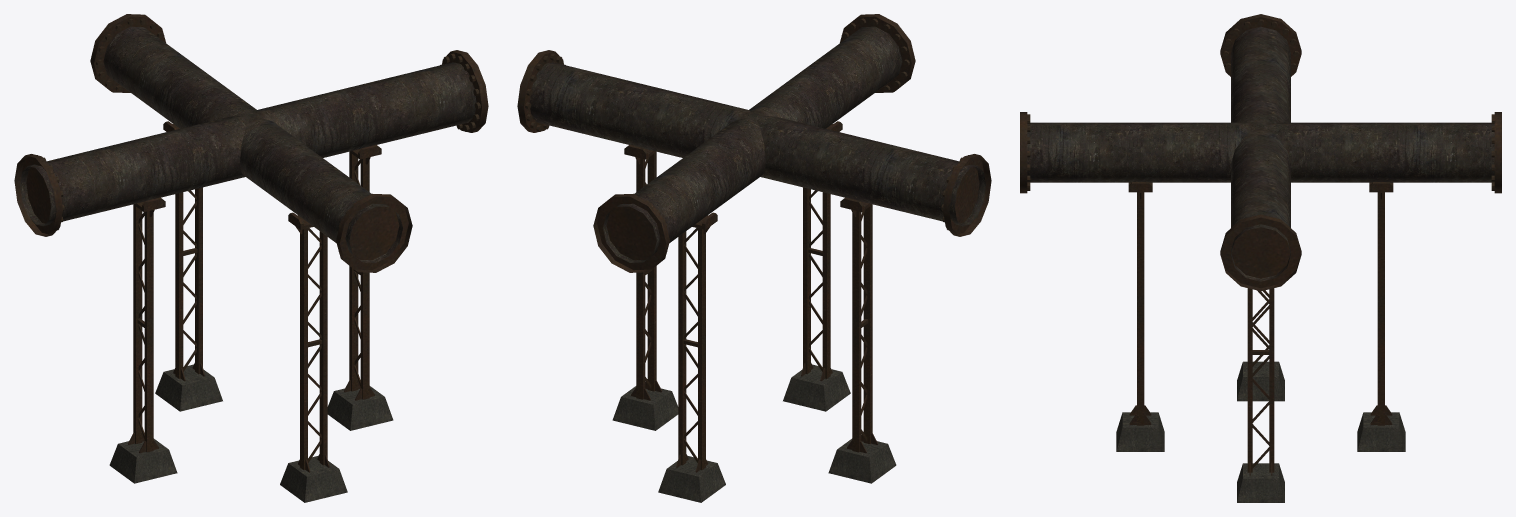
The model's file is pipe_cx_2.obj.
The picture shows the model from 3 angles, left to right: view 1: azimuth 30°, elevation 25°; view 2: azimuth 150°, elevation 25°; view 3: azimuth 270°, elevation 25°; orthographic projection. The views are drawn at different scales.
Parts seen in each view (by area): view 1: pipe_cx_2; view 2: pipe_cx_2; view 3: pipe_cx_2.
Boxes of the visible parts, left/top/right/bottom form: pipe_cx_2: left=14, top=14, right=488, bottom=502; pipe_cx_2: left=517, top=14, right=991, bottom=502; pipe_cx_2: left=1020, top=14, right=1501, bottom=502.
Size of the model in its own units: 4 by 2.99 by 4.
